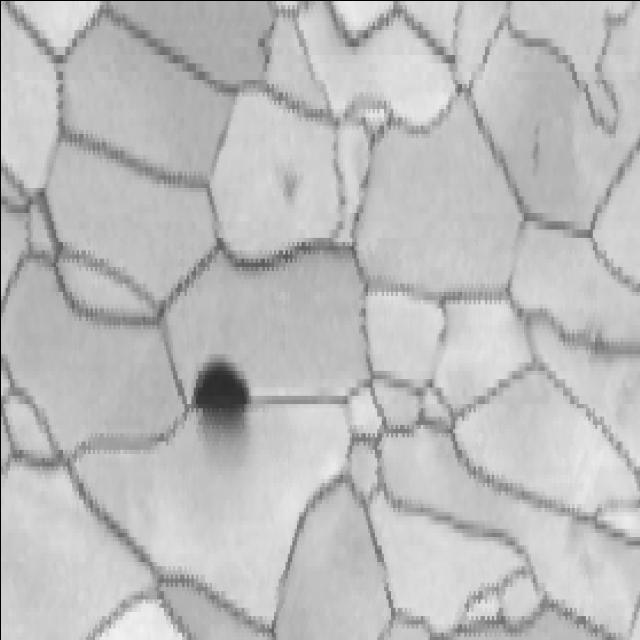good_void: (187, 348, 253, 450), (275, 156, 311, 219), (571, 318, 610, 370), (522, 115, 549, 190)
